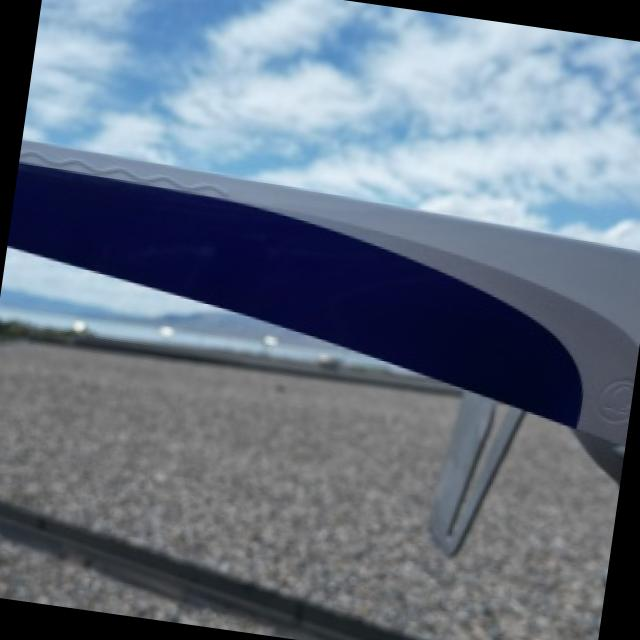healthy: (8, 140, 640, 478)
